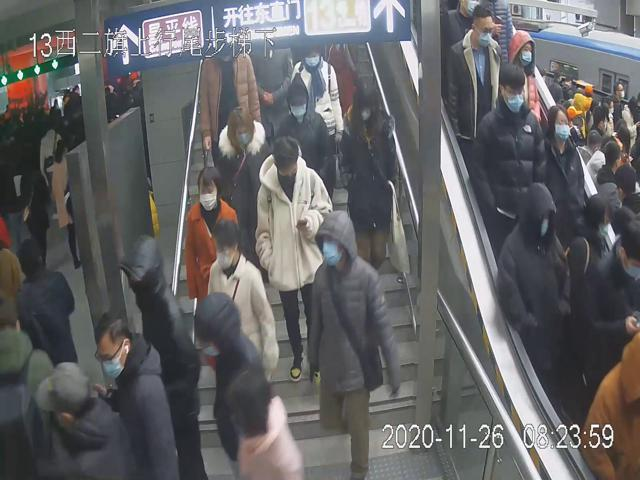person: (306, 208, 401, 480), (253, 131, 333, 387), (206, 216, 279, 401), (469, 61, 545, 236), (339, 70, 399, 272), (211, 99, 275, 286), (272, 66, 333, 217), (185, 164, 240, 310), (446, 4, 502, 136), (288, 42, 342, 136)
